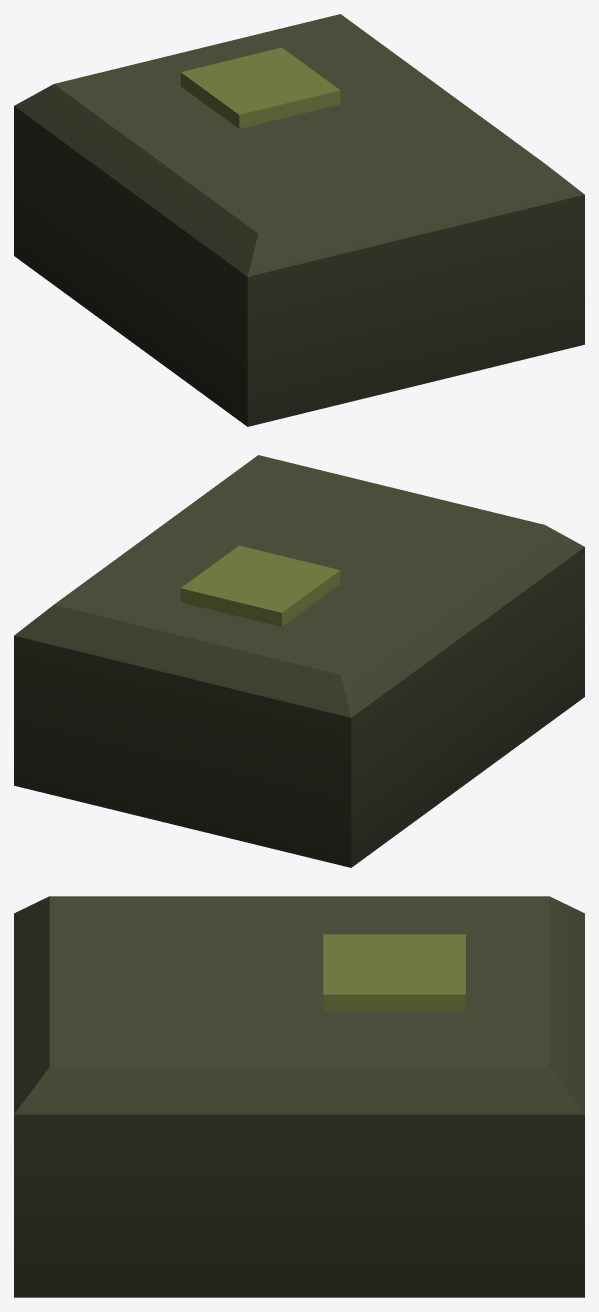
File: selector-combinator.glb
3 views of the same model, one above another, from view 1: azimuth 30°, elevation 25°; view 2: azimuth 150°, elevation 25°; view 3: azimuth 270°, elevation 25° (orthographic). The views are drawn at different scales.
Parts seen in each view (by area): view 1: selector-combinator; view 2: selector-combinator; view 3: selector-combinator.
Part boxes in pixels (x1,y1,x2,y2): selector-combinator: [14, 14, 584, 426]; selector-combinator: [14, 455, 584, 867]; selector-combinator: [14, 896, 584, 1297].
Size of the model in its own units: 0.2 by 0.108 by 0.24.
